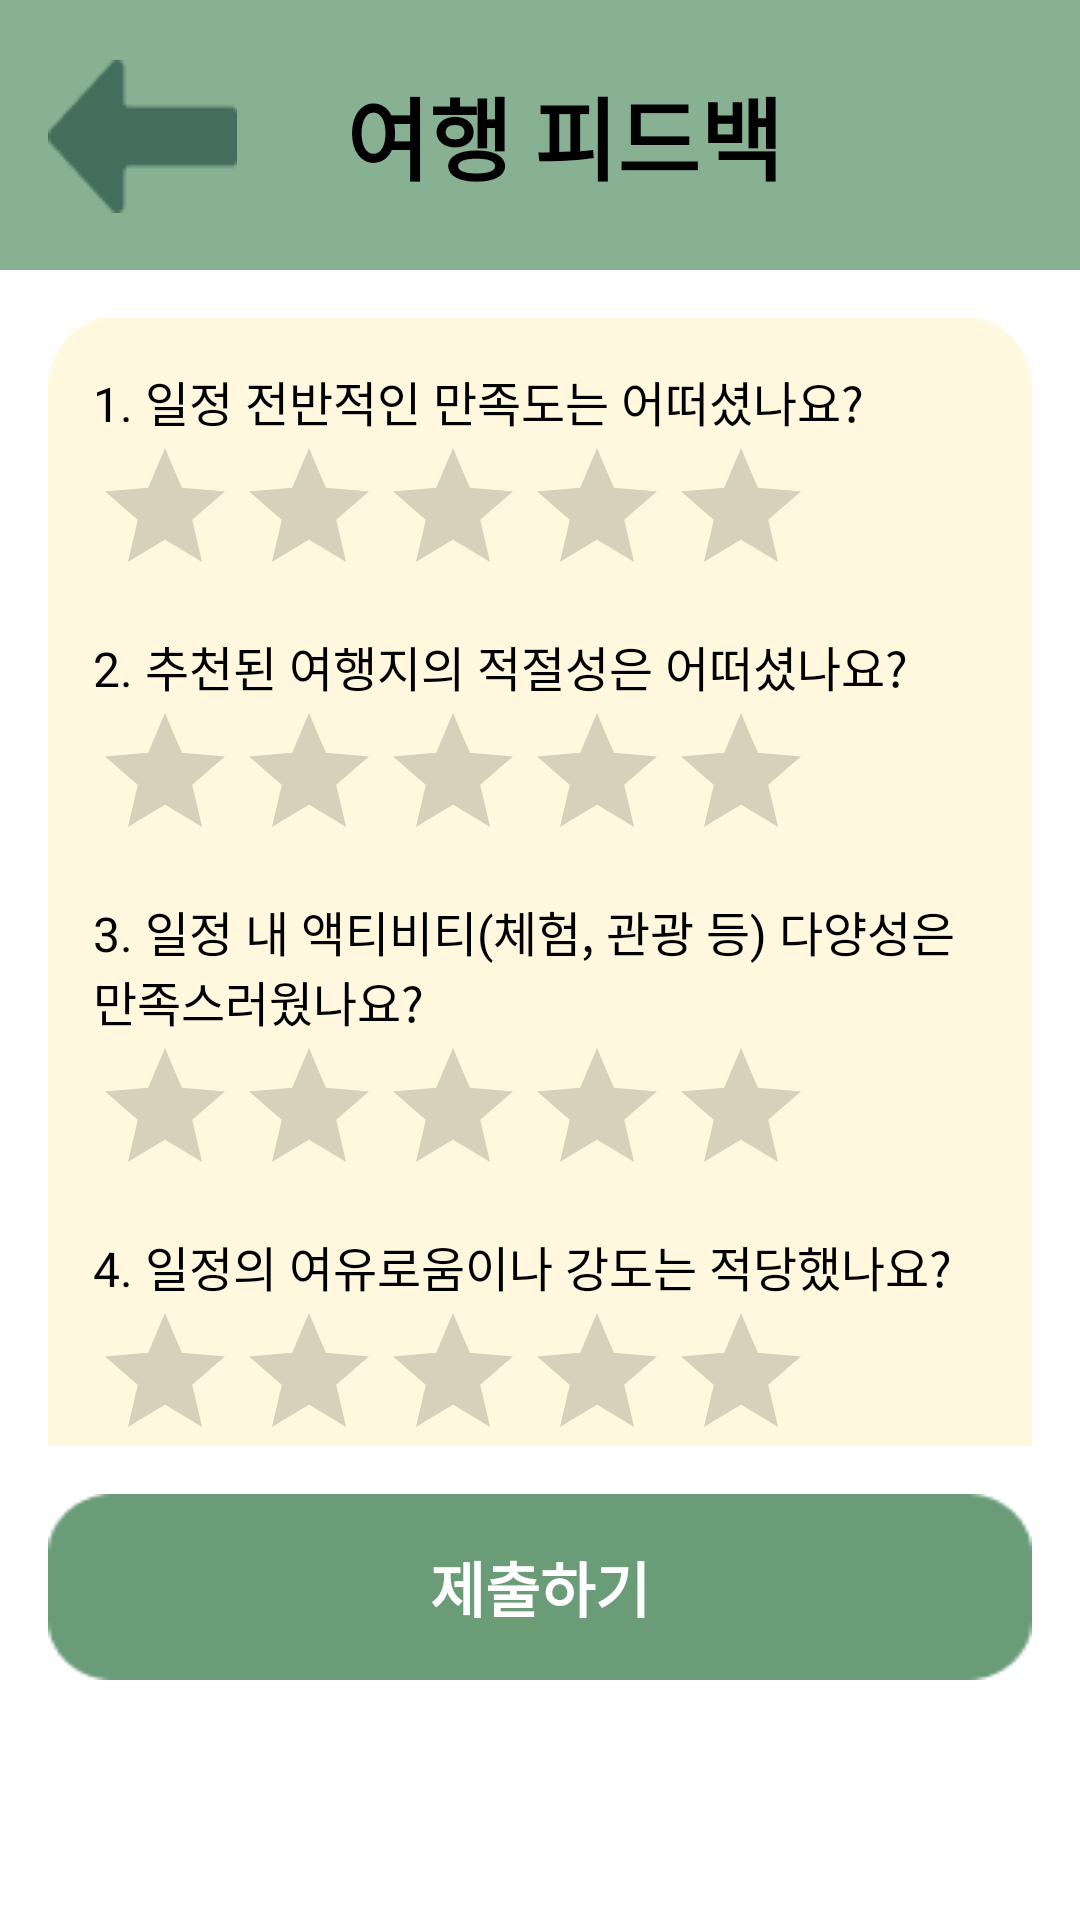

Named icons in this screenshot (1080x1920) and their bounding boxes, box(x1, y1, x2, y2):
back 버튼: box(48, 60, 237, 213)
